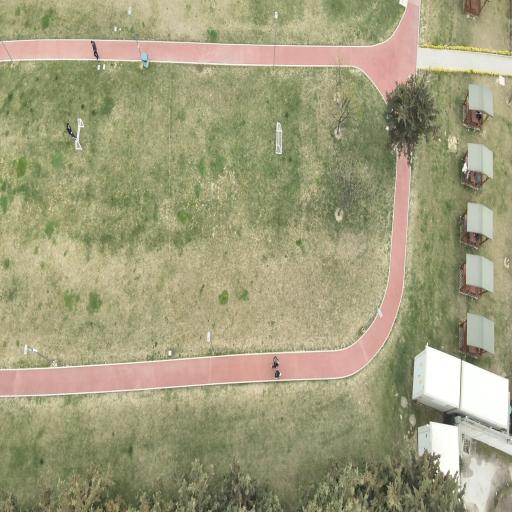person: (67, 123, 76, 139), (91, 41, 98, 60), (272, 356, 278, 368), (275, 370, 281, 379), (476, 111, 482, 120)
